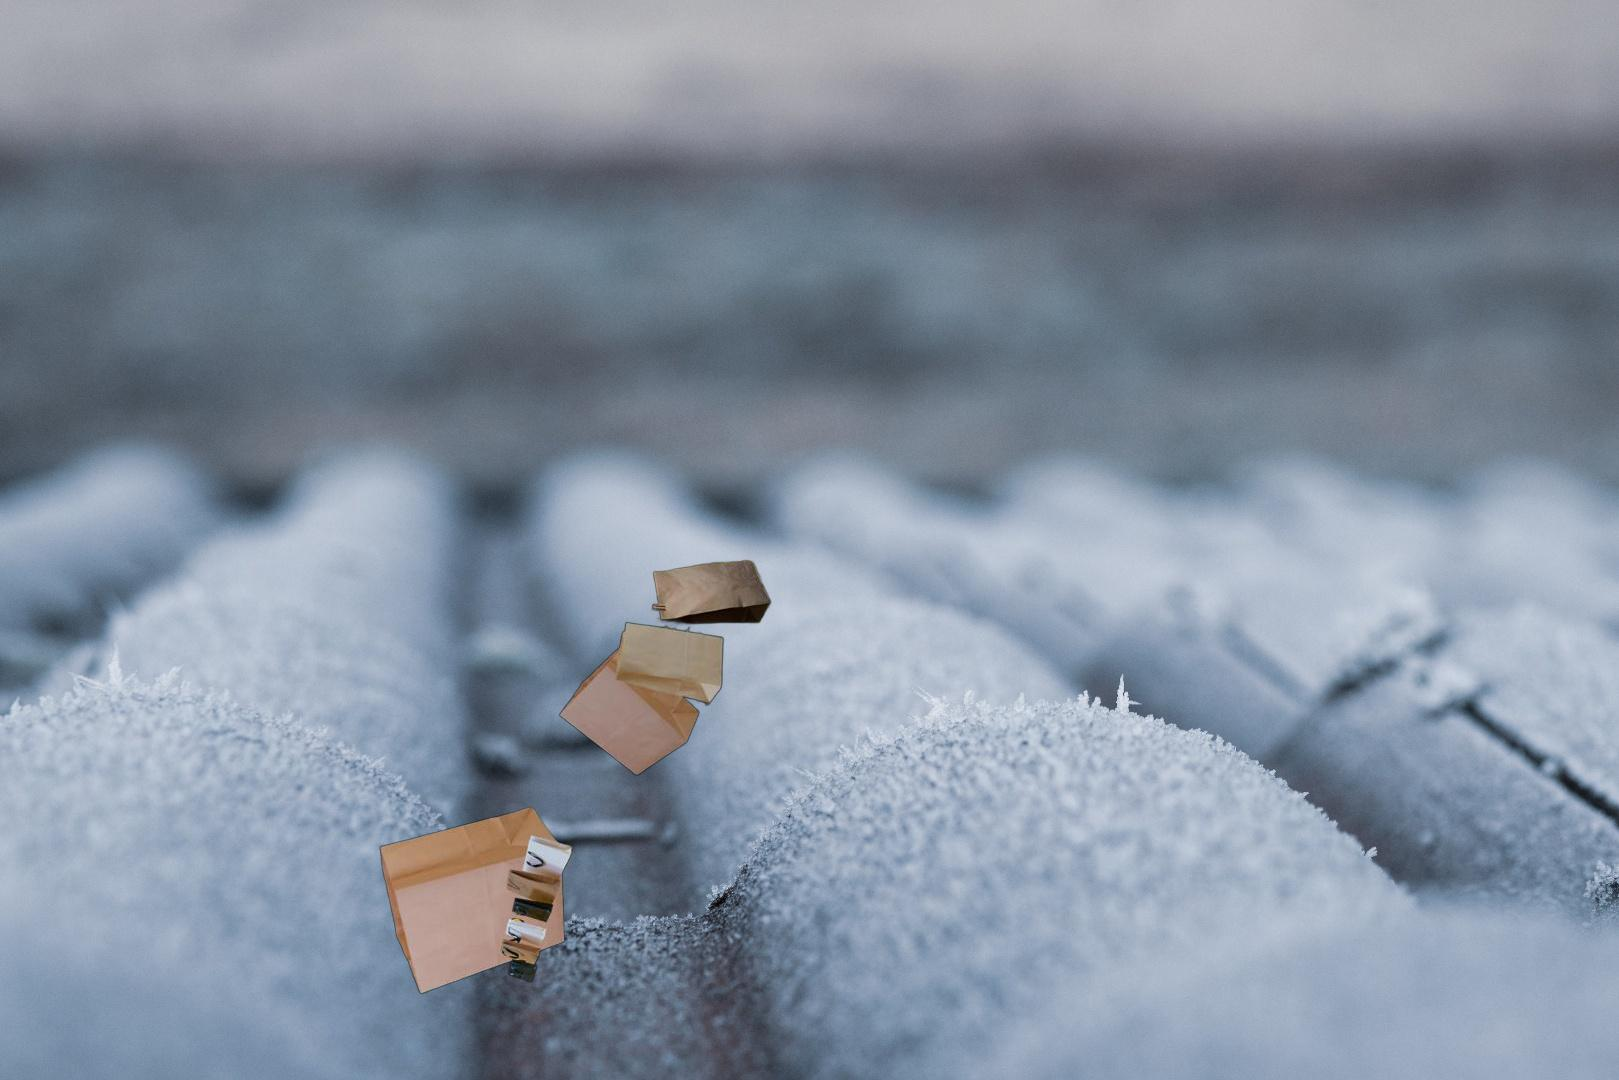paper-bag: (557, 557, 773, 777), (377, 804, 577, 994)
